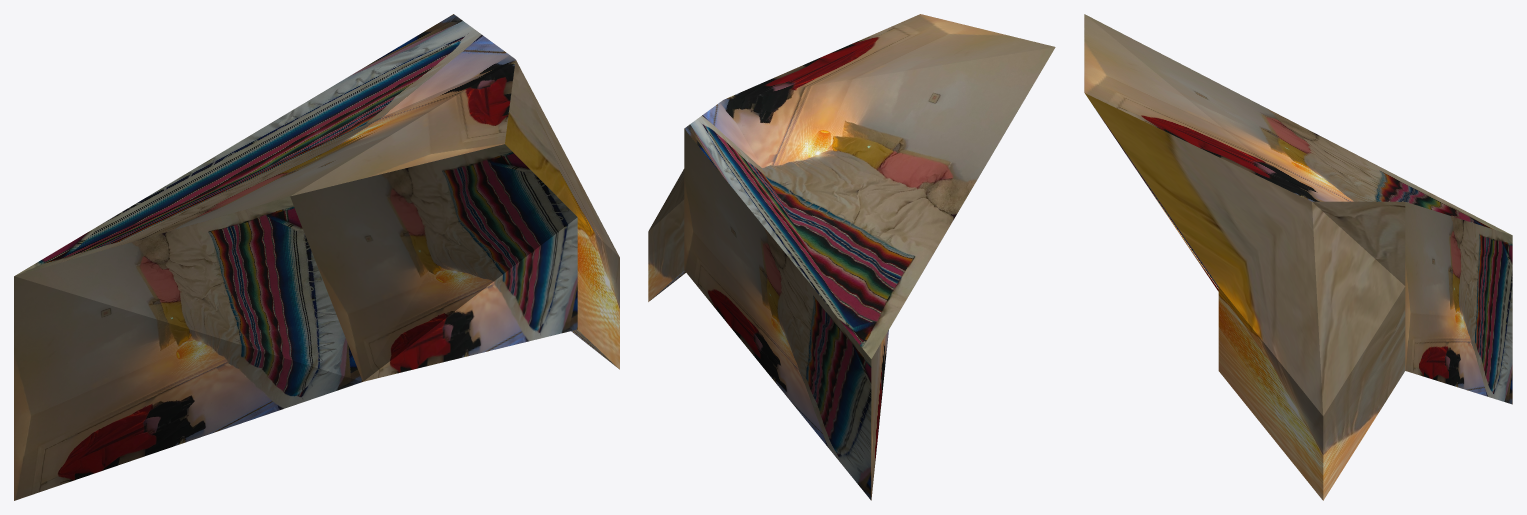
Rendered from blender-test.dae.
The picture shows the model from 3 angles, left to right: view 1: azimuth 30°, elevation 25°; view 2: azimuth 150°, elevation 25°; view 3: azimuth 270°, elevation 25°; orthographic projection. The views are drawn at different scales.
Parts seen in each view (by area): view 1: Cube; view 2: Cube; view 3: Cube.
Part boxes in pixels (x1,y1,x2,y2): Cube: [14, 14, 619, 500]; Cube: [648, 14, 1055, 500]; Cube: [1084, 14, 1512, 500].
Size of the model in its own units: 4.55 by 4.59 by 4.58.
